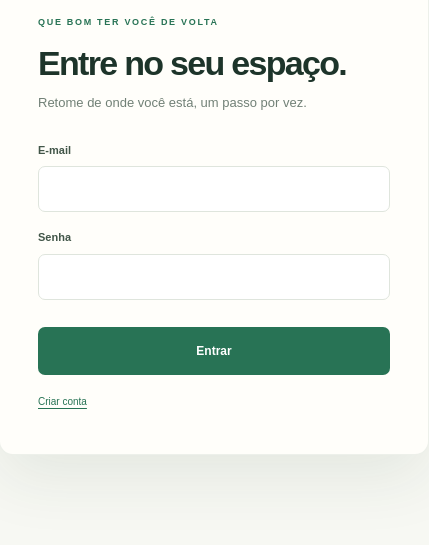
authentication forms › shows an error when sign-in is rejected
The width and height of the screenshot is (429, 545).
Type "ana@example.com" into the field labelled "E-mail".
click(214, 189); type("ana@example.com")  # box [38, 166, 390, 212]
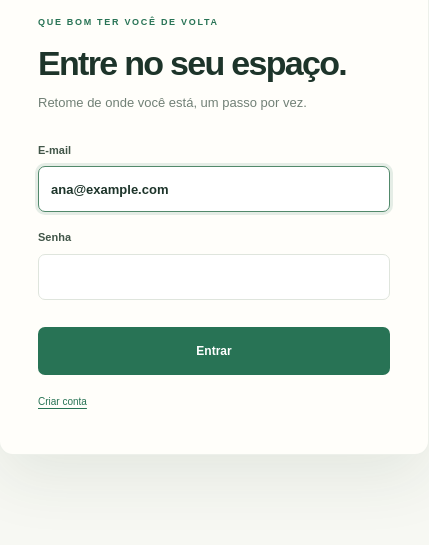
Type "senha-segura-com-12" into the password field labelled "Senha".
click(214, 277); type("senha-segura-com-12")  # box [38, 254, 390, 300]
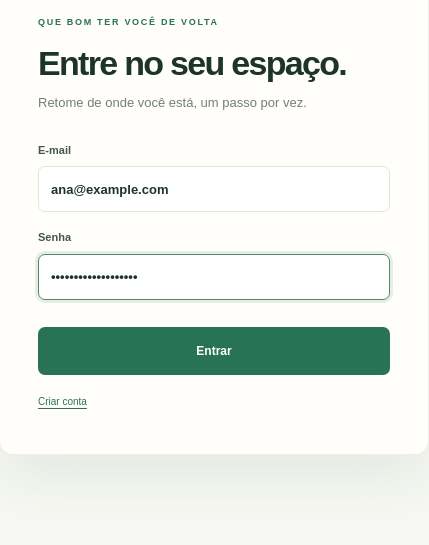
Click the button "Entrar".
click(214, 351)  # box [38, 327, 390, 375]
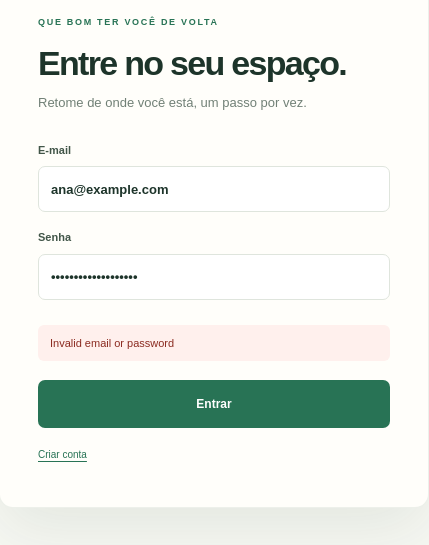
Now the message reads "Invalid email or password", box [50, 337, 174, 349]
